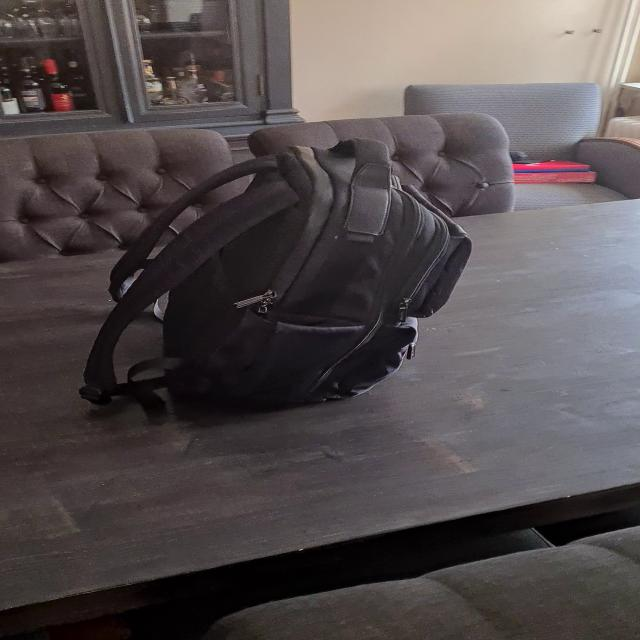backpack: (82, 140, 475, 424)
